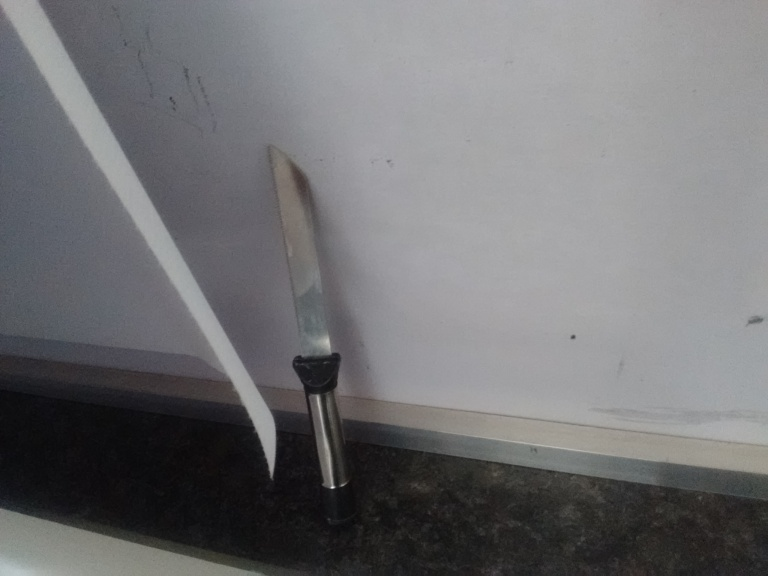knife: (264, 145, 362, 523)
